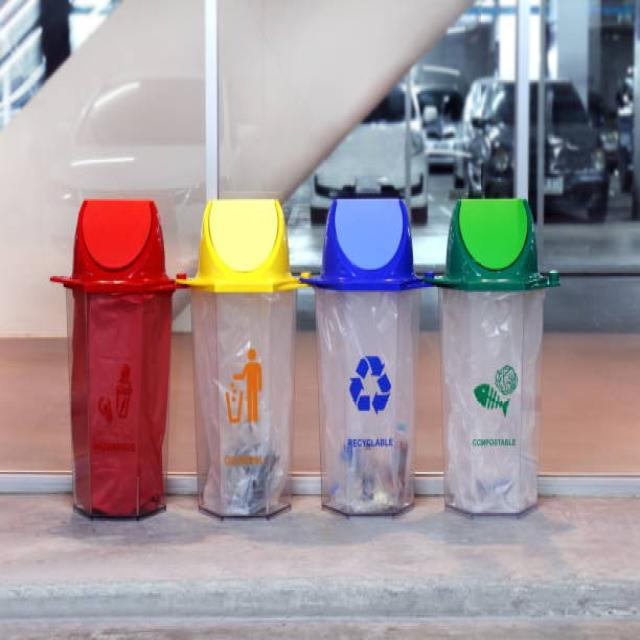plastic: (48, 169, 541, 538)
